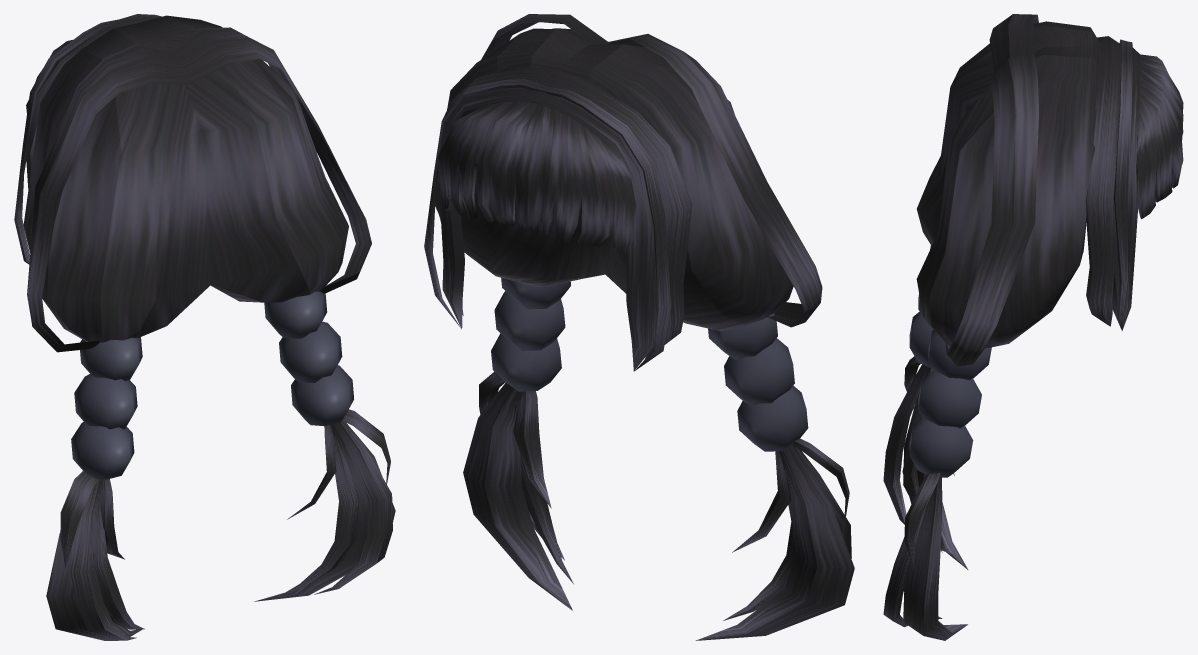
3 renders of one model, left to right at view 1: azimuth 30°, elevation 25°; view 2: azimuth 150°, elevation 25°; view 3: azimuth 270°, elevation 25°, orthographic. The views are drawn at different scales.
Visible parts, largest first — view 1: geometry_0; view 2: geometry_0; view 3: geometry_0.
Part boxes in pixels (x1,y1,x2,y2): geometry_0: [14, 14, 395, 640]; geometry_0: [424, 14, 854, 640]; geometry_0: [883, 14, 1183, 640].
Size of the model in its own units: 2.33 by 3.53 by 1.71.
Materials: 1 (1 with a texture image).
